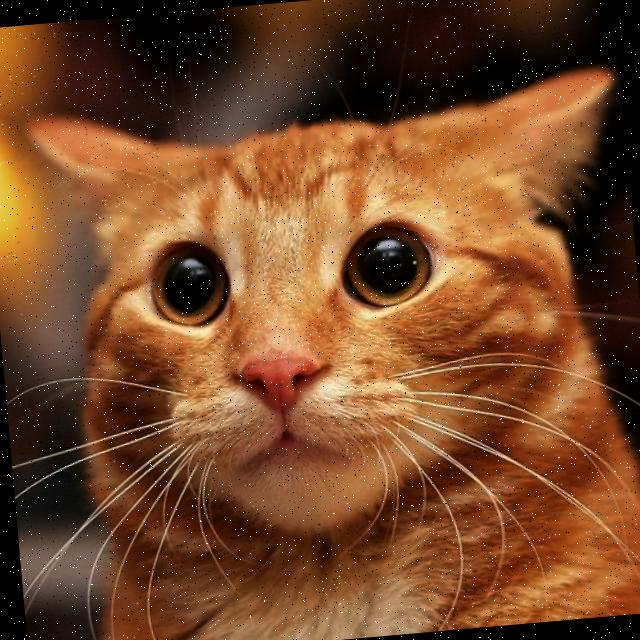Surprised: (140, 202, 470, 510)
